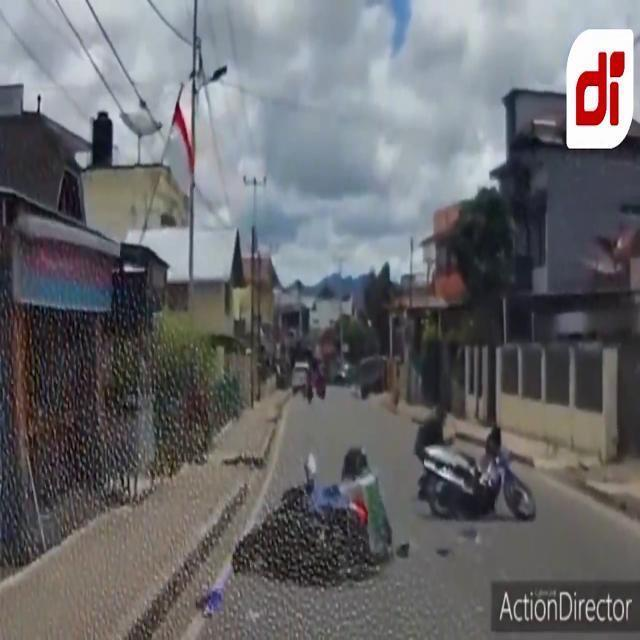accident: (194, 396, 536, 620)
non-accident: (290, 361, 330, 404)
